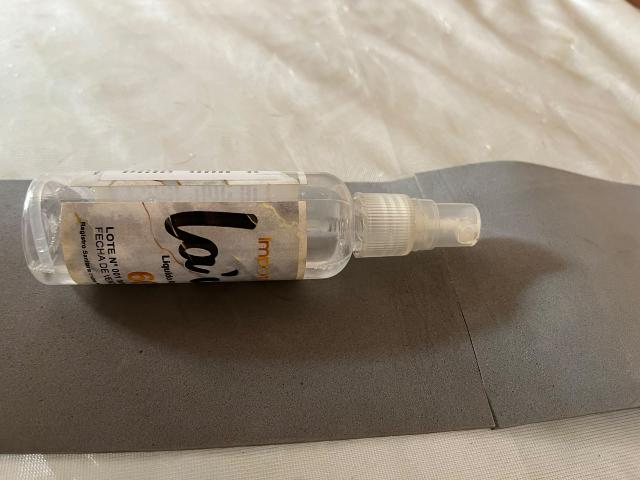PET: (0, 142, 511, 363)
